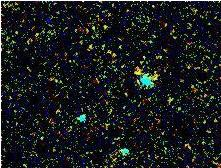star: (121, 56, 151, 86)
